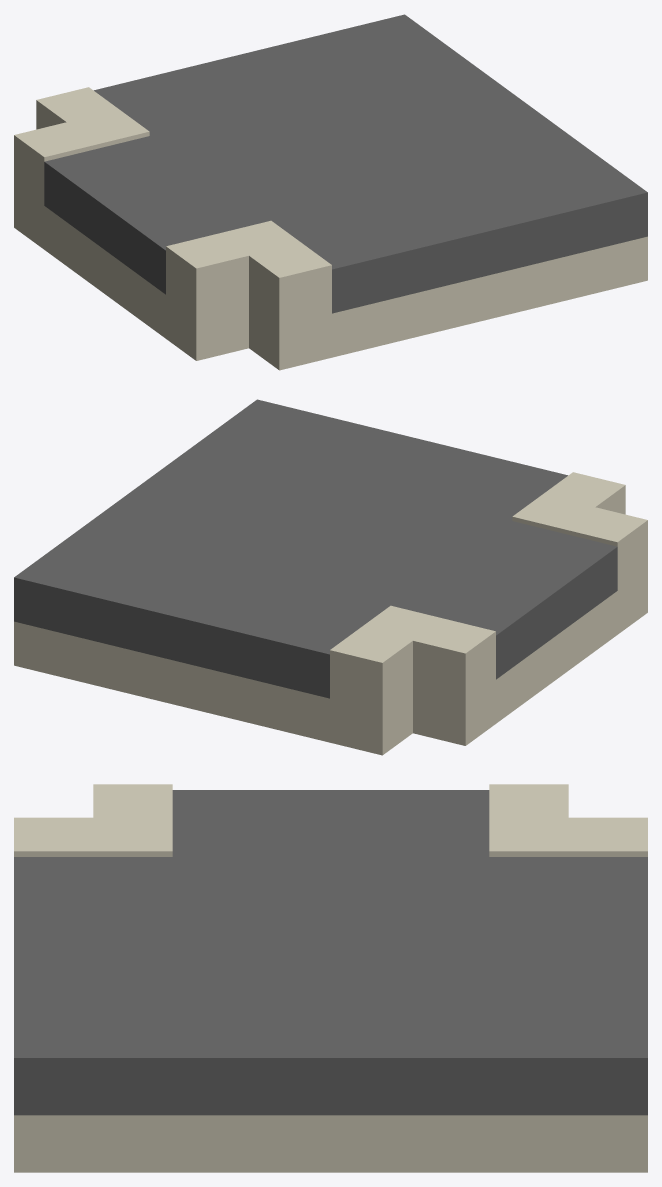
The model's file is tile193.obj.
3 renders of one model, top to bottom at view 1: azimuth 30°, elevation 25°; view 2: azimuth 150°, elevation 25°; view 3: azimuth 270°, elevation 25°, orthographic. The views are drawn at different scales.
Visible parts, largest first — view 1: tile193; view 2: tile193; view 3: tile193.
Part boxes in pixels (bbox=[...]): tile193: bbox=[14, 14, 647, 370]; tile193: bbox=[14, 399, 647, 755]; tile193: bbox=[14, 784, 647, 1172].
Bounding box in the file's own units: 1 × 0.21 × 1.
